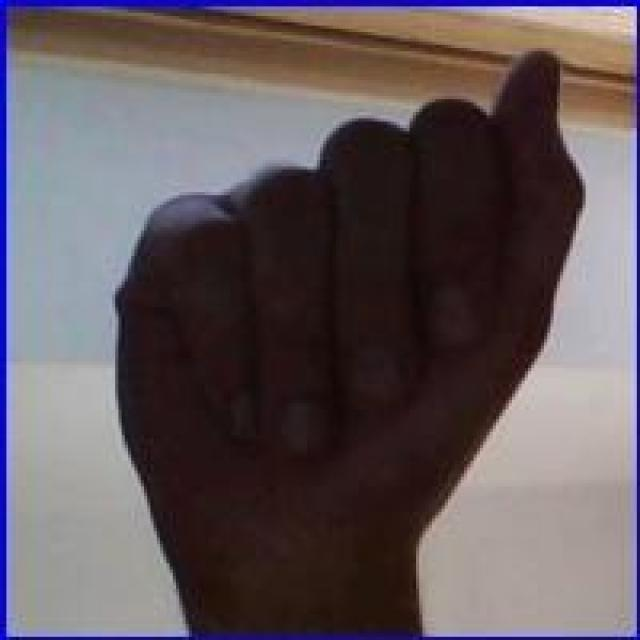A: (119, 42, 586, 630)
